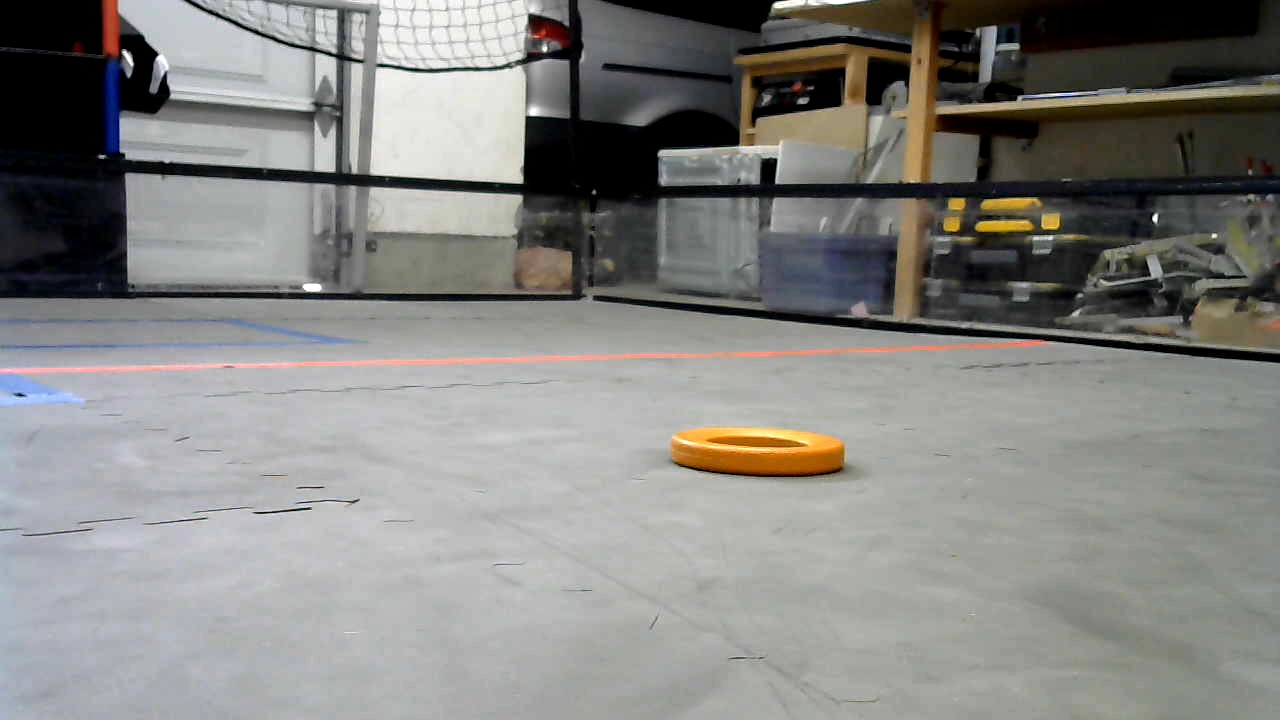OneStack: (669, 424, 846, 476)
